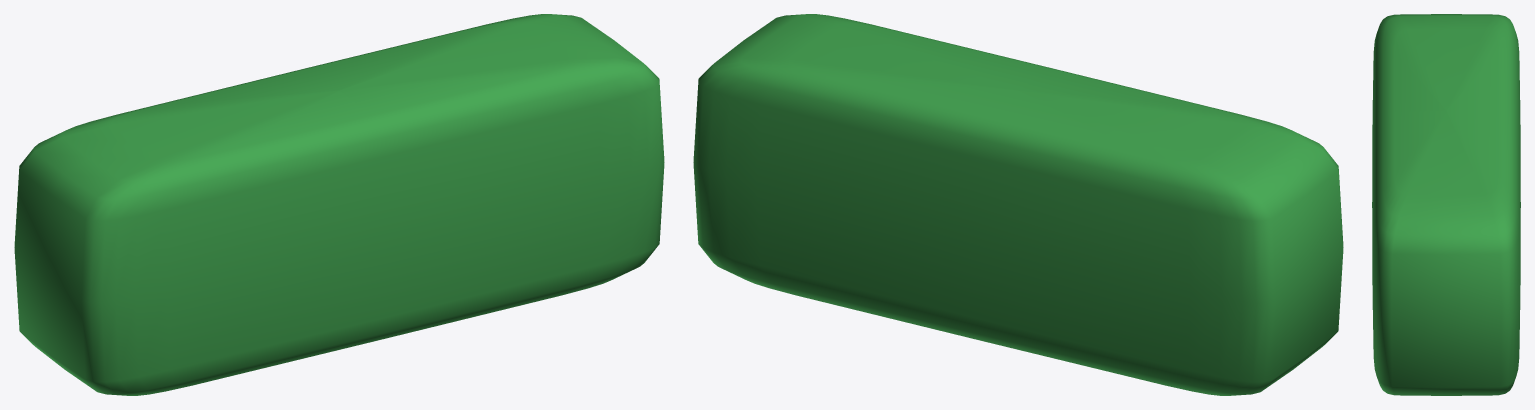
File: cerca_viva.glb
3 renders of one model, left to right at view 1: azimuth 30°, elevation 25°; view 2: azimuth 150°, elevation 25°; view 3: azimuth 270°, elevation 25°, orthographic. The views are drawn at different scales.
Parts seen in each view (by area): view 1: cerca_viva; view 2: cerca_viva; view 3: cerca_viva.
Boxes of the visible parts, x1,y1,x2,y2 form: cerca_viva: (14, 14, 664, 395); cerca_viva: (693, 14, 1343, 395); cerca_viva: (1372, 14, 1520, 395).
Size of the model in its own units: 3 by 1.12 by 0.8.
Materials: 1 (1 with a texture image).
